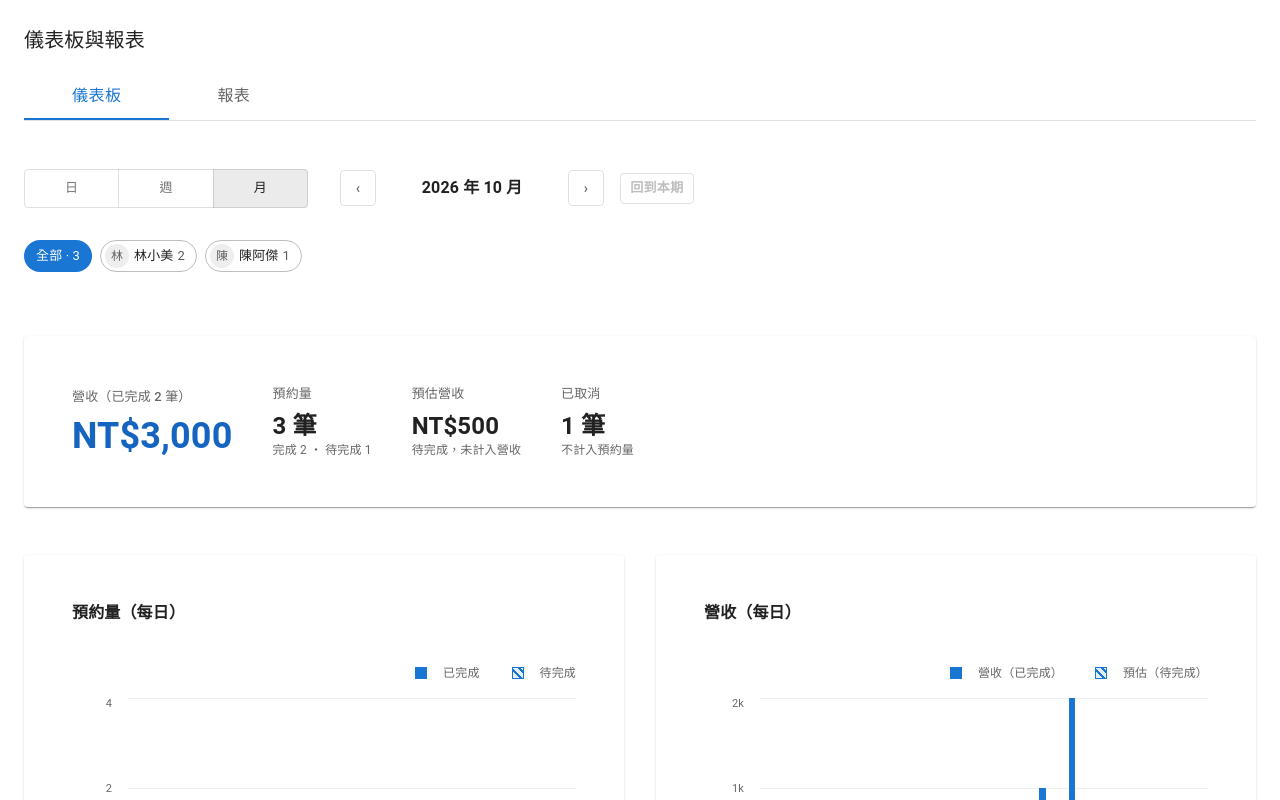
Scenario: ReportsView › 只有期間改變才重新查詢 › 勾選設計師不重新查詢，彙總、排行與 chip 數字依設計師重算
Expected: the text "NT$3,000" is shown, [72,414,232,459]
Click the button "陳 陳阿傑 1".
click(253, 256)  # box [205,240,302,272]
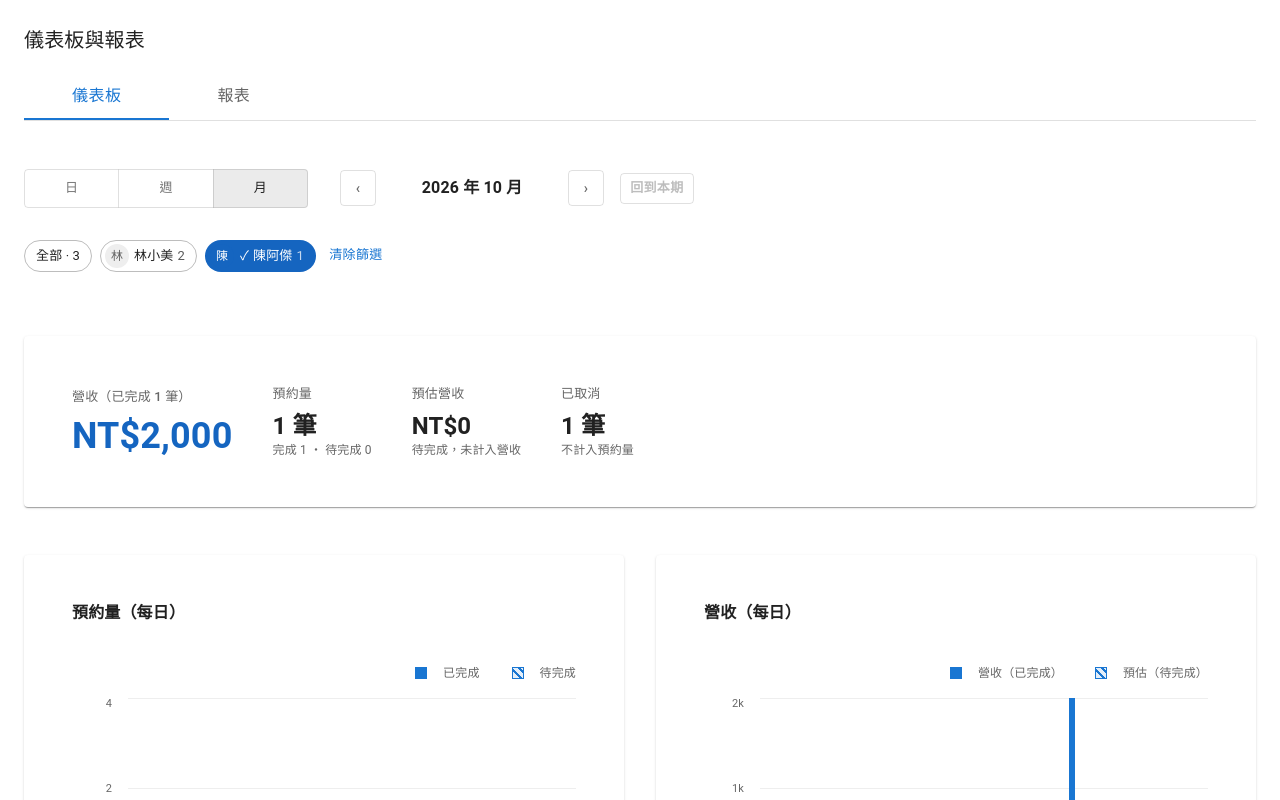
Expected: the button "全部 · 3" is shown, [24,240,92,272]
Expected: the text with test id "revenue-main" reads "NT$2,000", [72,415,232,457]
